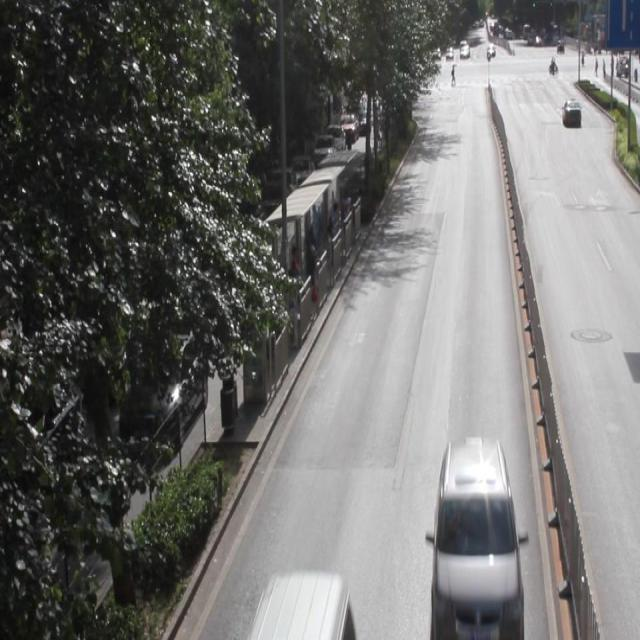car: (429, 437, 523, 640)
truck: (243, 569, 353, 640)
